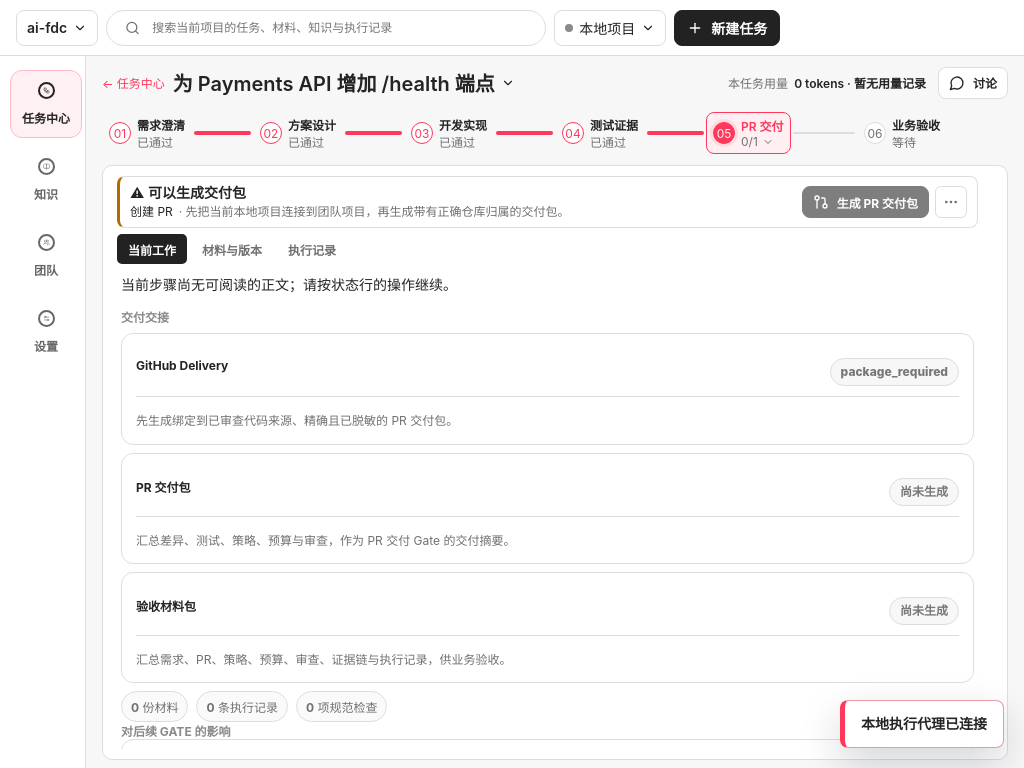
Test case: App › treats a credential for another local project as unbound on the current project
Click the button with aria-label "团队连接：": (610, 28) [554,10,666,46]
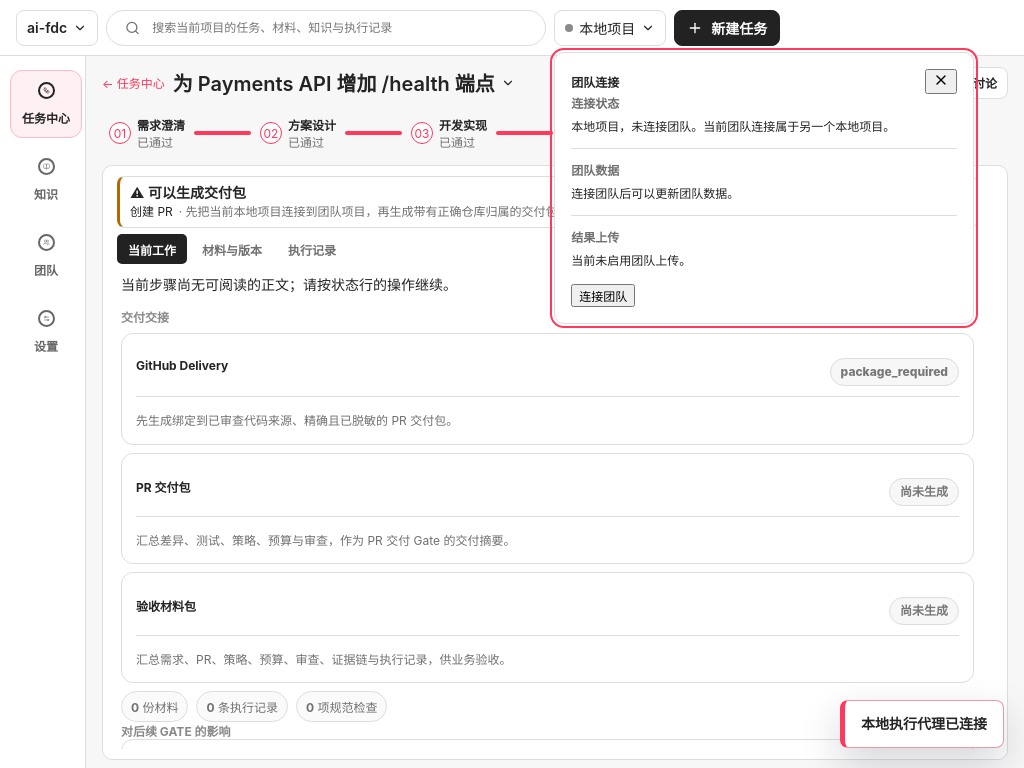
Check: the dialog "团队连接" shows "当前团队连接属于另一个本地项目", box [571,118,895,134]
